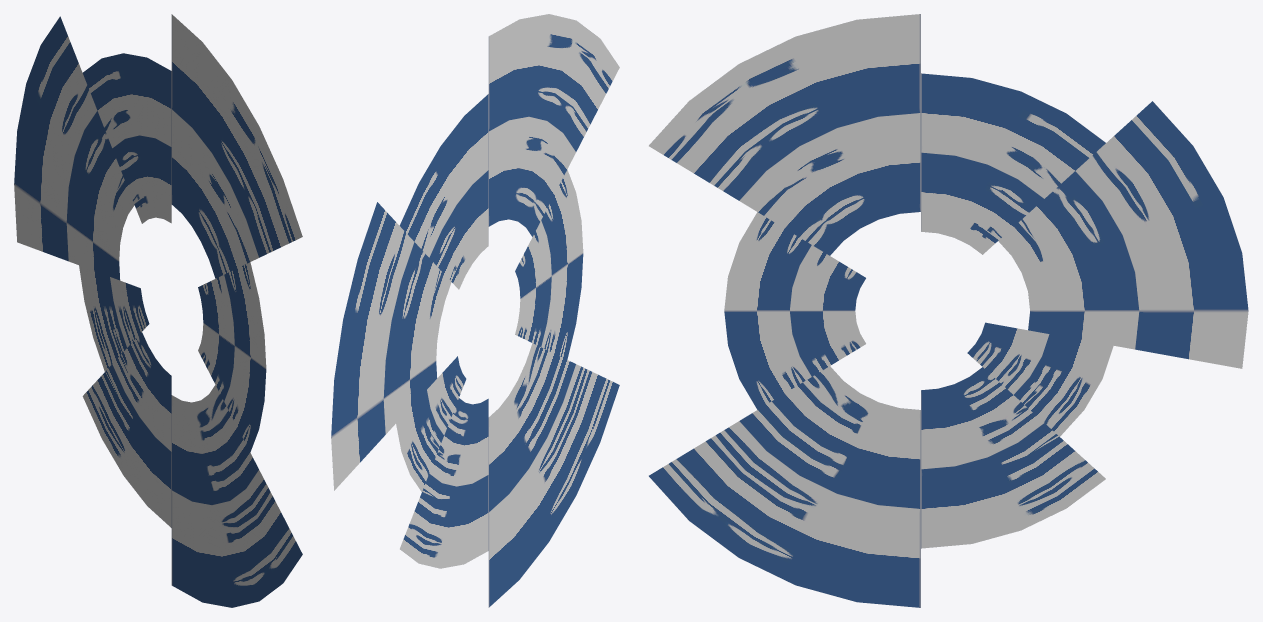
File: Ring20.fbx
The picture shows the model from 3 angles, left to right: view 1: azimuth 30°, elevation 25°; view 2: azimuth 150°, elevation 25°; view 3: azimuth 270°, elevation 25°; orthographic projection. The views are drawn at different scales.
Parts seen in each view (by area): view 1: SM_e_cmn_Ring020; view 2: SM_e_cmn_Ring020; view 3: SM_e_cmn_Ring020.
Part boxes in pixels (x1,y1,x2,y2): SM_e_cmn_Ring020: (14, 14, 302, 607); SM_e_cmn_Ring020: (331, 14, 619, 607); SM_e_cmn_Ring020: (649, 14, 1248, 607).
Bounding box in the file's own units: 6.18e-06 × 100 × 91.57.
